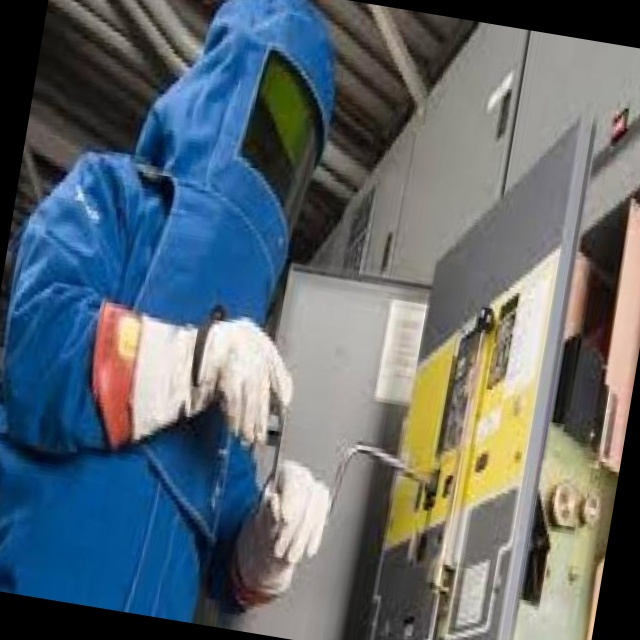gloves: (102, 327, 309, 469), (276, 464, 359, 605)
